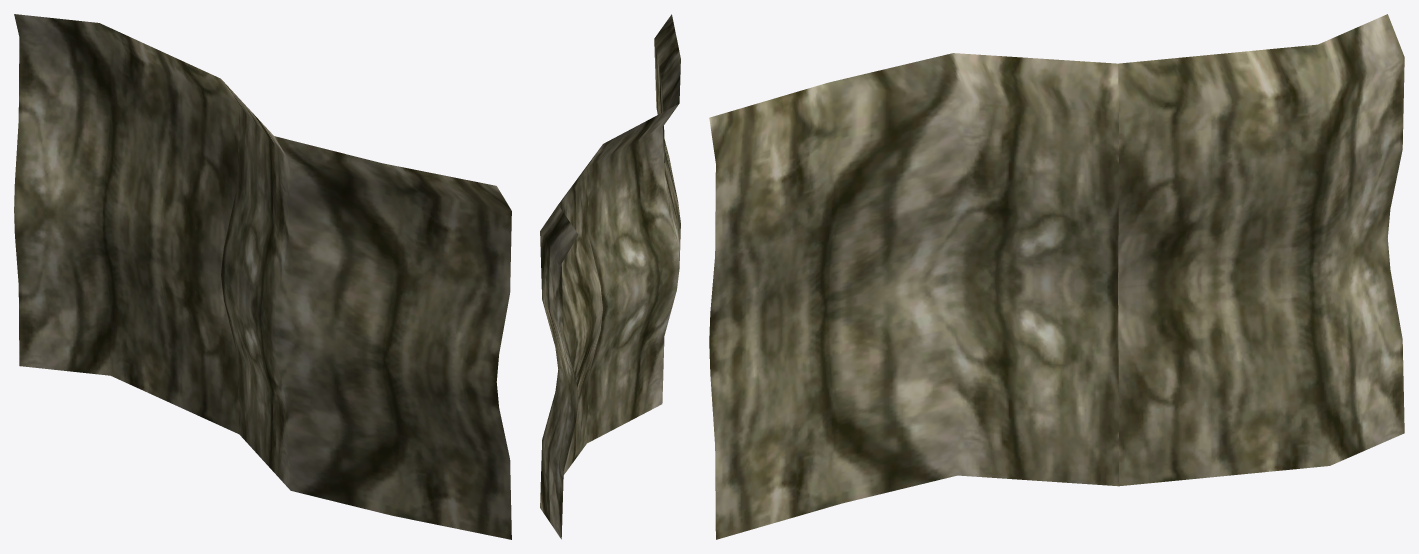
Rendered from CB_NEWPLAYSURFACE_CB_PLAYSURFACE40.fbx.
The picture shows the model from 3 angles, left to right: view 1: azimuth 30°, elevation 25°; view 2: azimuth 150°, elevation 25°; view 3: azimuth 270°, elevation 25°; orthographic projection. The views are drawn at different scales.
Parts seen in each view (by area): view 1: CB_NEWPLAYSURFACE_CB_PLAYSURFACE40; view 2: CB_NEWPLAYSURFACE_CB_PLAYSURFACE40; view 3: CB_NEWPLAYSURFACE_CB_PLAYSURFACE40.
Boxes of the visible parts, x1,y1,x2,y2 form: CB_NEWPLAYSURFACE_CB_PLAYSURFACE40: (14,14,511,539); CB_NEWPLAYSURFACE_CB_PLAYSURFACE40: (540,14,680,539); CB_NEWPLAYSURFACE_CB_PLAYSURFACE40: (709,14,1404,539).
Bounding box in the file's own units: 43530 × 73541 × 112443.
Materials: 1 (1 with a texture image).
